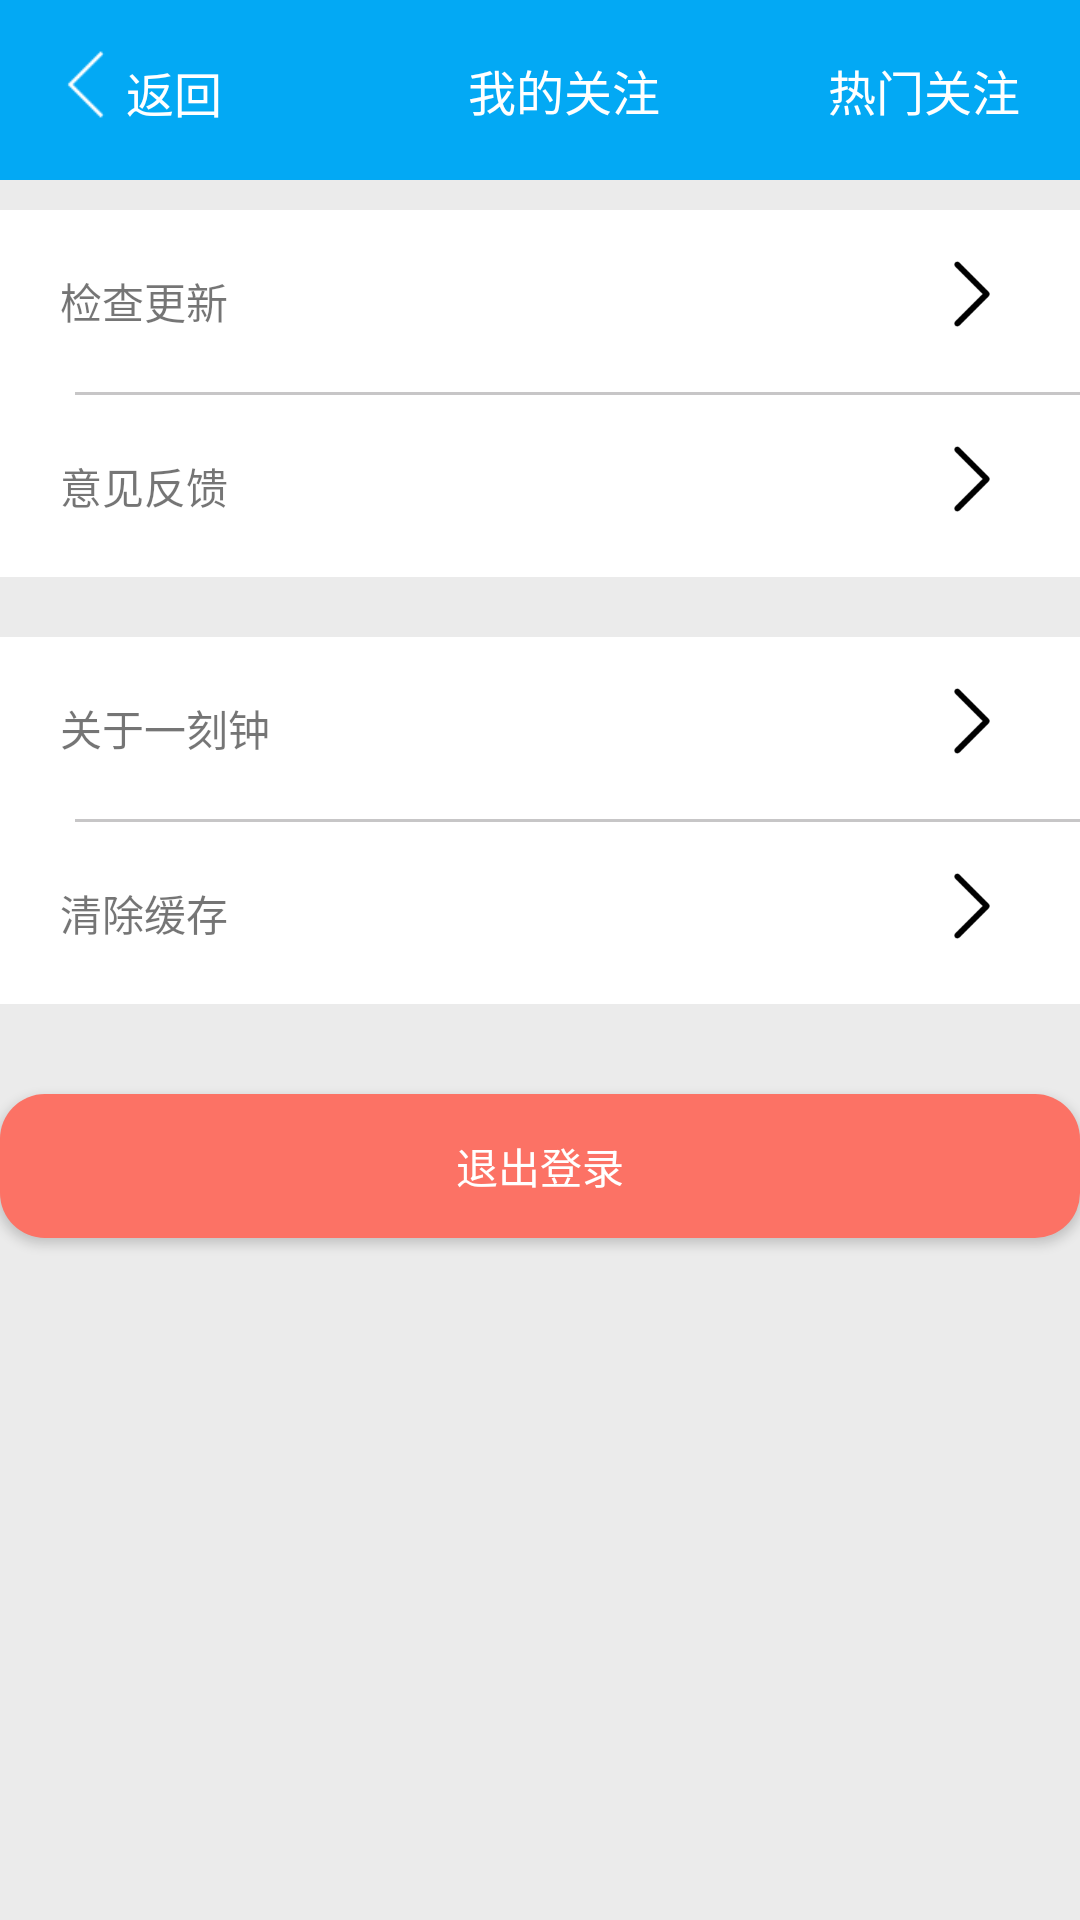

Icons on this 1080*1920 Android screen, each with its box as (x1, y1, x2, y2):
youjiantou: (954, 261, 990, 327), (954, 446, 990, 512), (954, 688, 990, 754), (954, 873, 990, 939)
zuojiantou bai: (68, 51, 103, 118)
